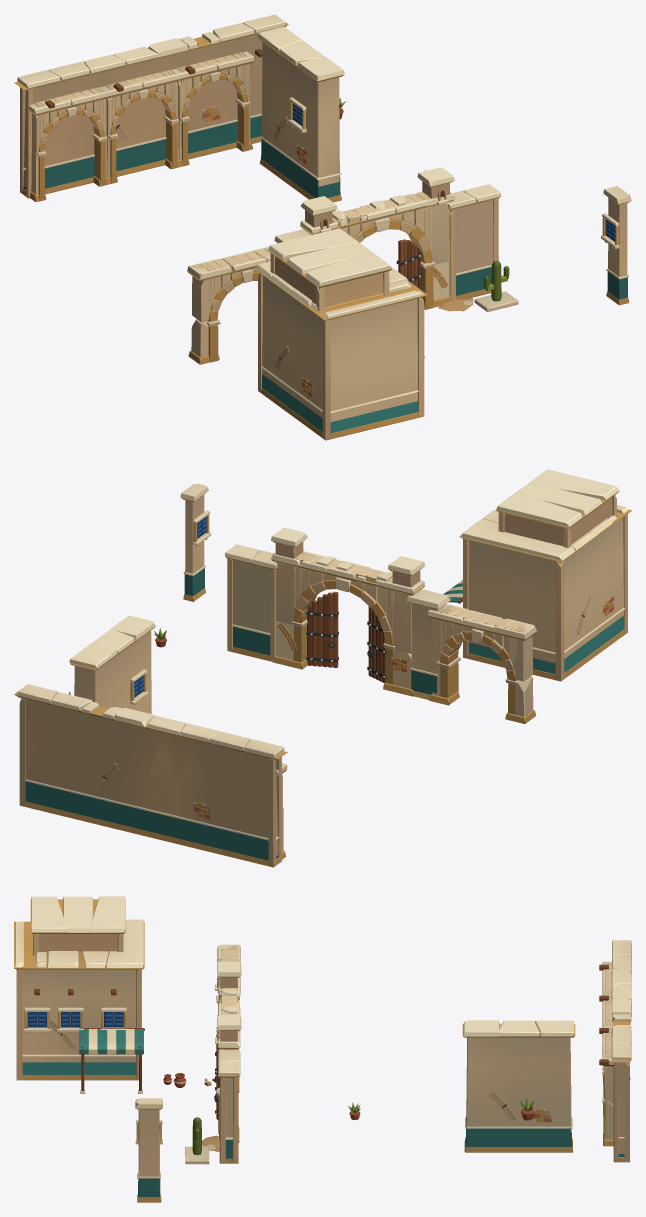
Rendered from mid.glb.
3 views of the same model, one above another, from view 1: azimuth 30°, elevation 25°; view 2: azimuth 150°, elevation 25°; view 3: azimuth 270°, elevation 25° (orthographic). The views are drawn at different scales.
Parts seen in each view (by area): view 1: mid; view 2: mid; view 3: mid.
Boxes of the visible parts, x1,y1,x2,y2 form: mid: [14, 14, 631, 440]; mid: [14, 469, 631, 867]; mid: [14, 896, 631, 1202].
Size of the model in its own units: 19.27 by 7.26 by 28.65.
